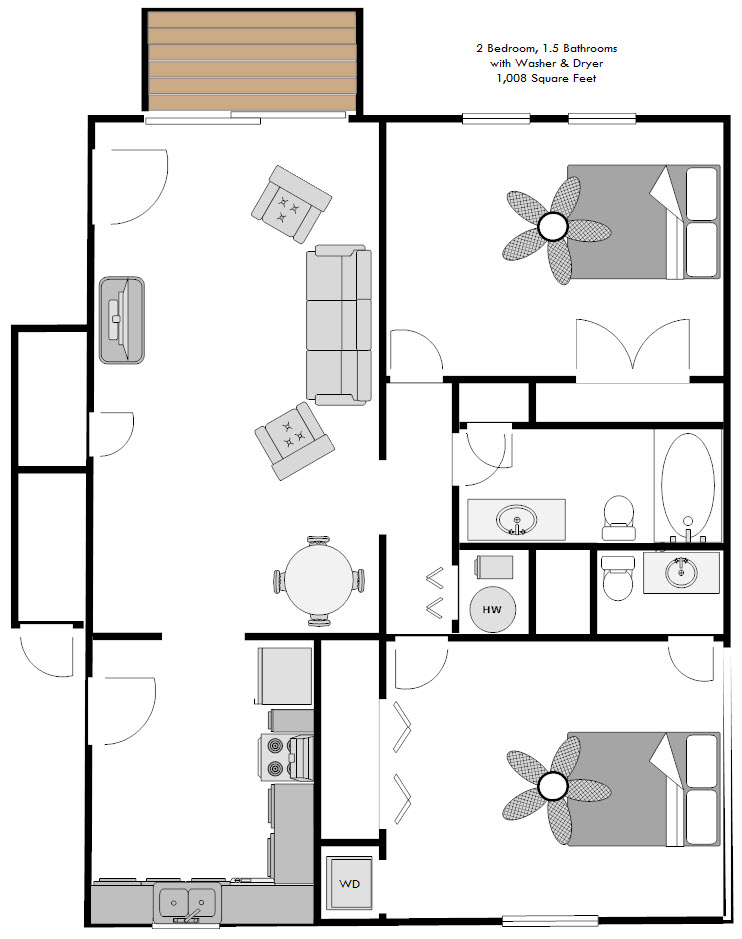room: (86, 113, 389, 642), (375, 628, 731, 926), (377, 107, 732, 387), (79, 630, 322, 927), (448, 419, 734, 550), (313, 631, 391, 847), (586, 538, 733, 642), (12, 465, 96, 627), (12, 324, 95, 473), (450, 541, 538, 644), (313, 836, 387, 929), (447, 373, 537, 433)
